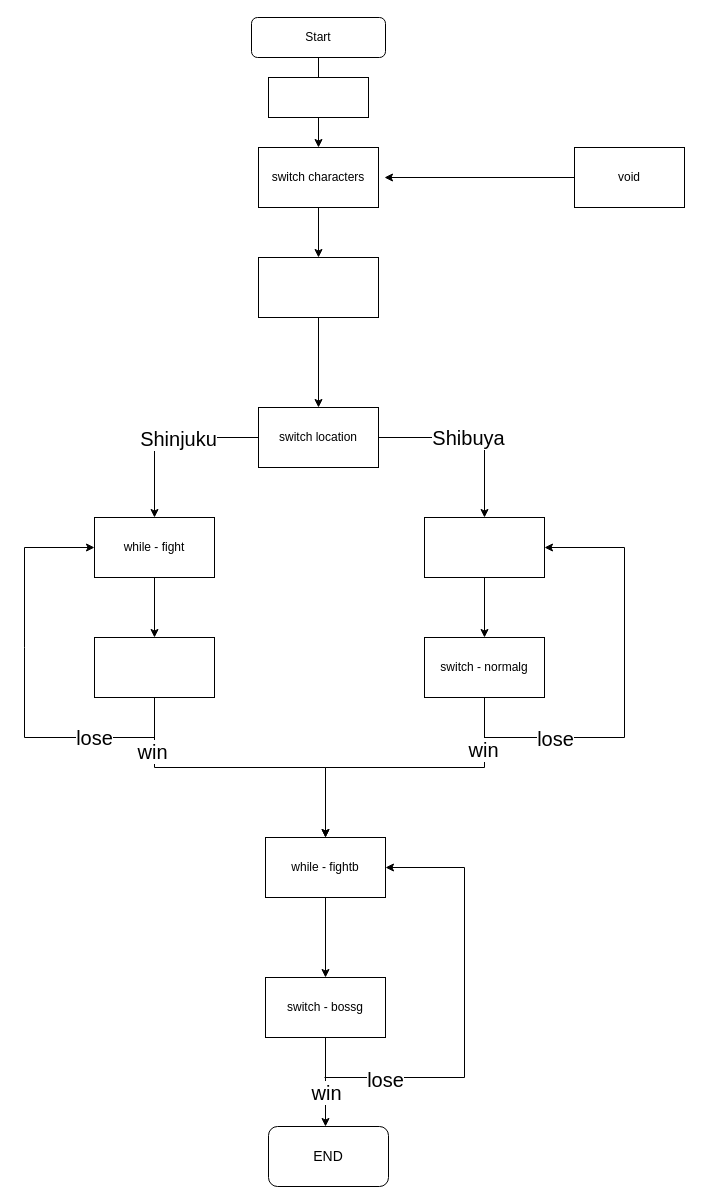
Image size: 702x1204. Some labels were removed from this diagram. The box of each missing label's shape, as (x1, y1, x2, y2) in pixels:
main: (268, 76, 368, 118)
switch - girlg: (94, 636, 214, 698)
switch task1: (258, 256, 378, 318)
while - figh2: (424, 516, 544, 578)
